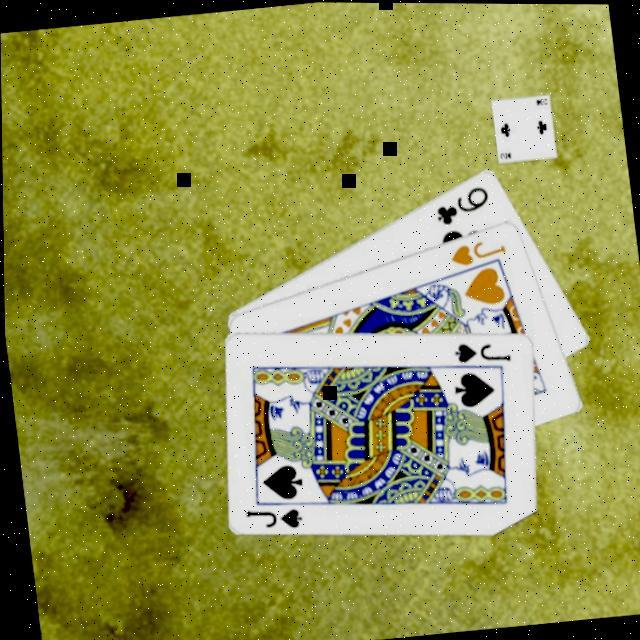9C: (430, 177, 495, 225)
JH: (446, 231, 511, 267)
JS: (450, 331, 515, 365), (242, 498, 305, 532)
